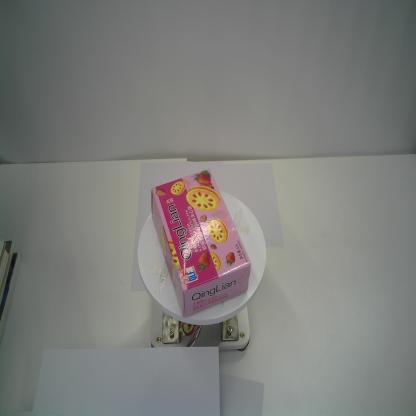Dessert: (148, 163, 254, 319)
